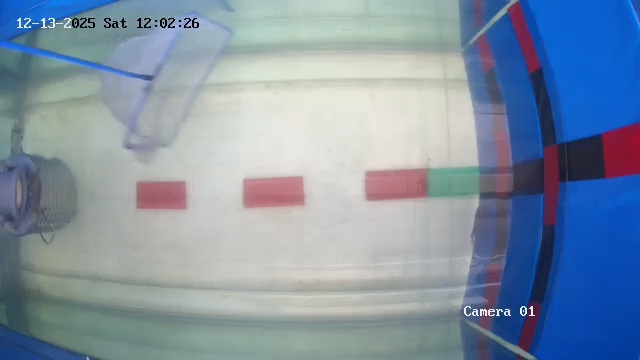fish: (469, 195, 493, 237)
